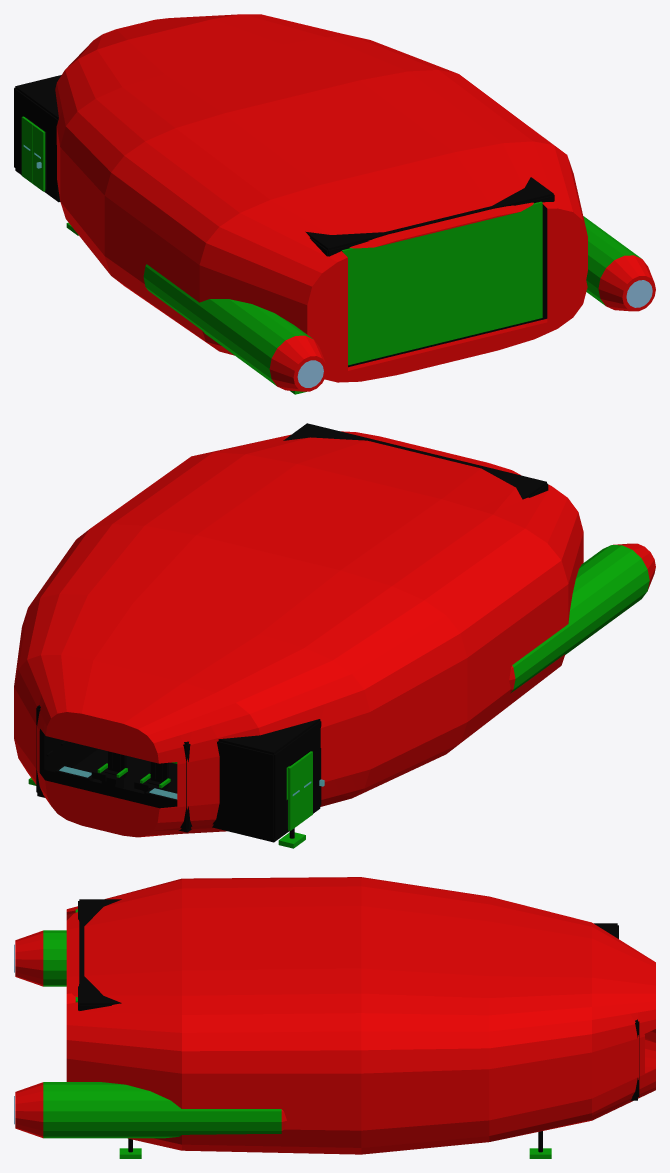
Rendered from shorebird.glb.
3 views of the same model, one above another, from view 1: azimuth 30°, elevation 25°; view 2: azimuth 150°, elevation 25°; view 3: azimuth 270°, elevation 25° (orthographic). The views are drawn at different scales.
Visible parts, largest first — view 1: horizon_shorebird:civilian_lifting_body, horizon_shorebird:cargo_ramp, horizon_shorebird:field_drive_1, horizon_shorebird:field_drive_2, horizon_shorebird:room_bridge-eva, horizon_shorebird:ceiling_garage, horizon_shorebird:room_garage, horizon_shorebird:ceiling_bridge-eva, horizon_shorebird:door_bridge-eva-outer_1, horizon_shorebird:door_bridge-eva-outer_-1; view 2: horizon_shorebird:civilian_lifting_body, horizon_shorebird:room_bridge-eva, horizon_shorebird:field_drive_1, horizon_shorebird:room_bridge, horizon_shorebird:ceiling_garage, horizon_shorebird:ceiling_bridge-eva, horizon_shorebird:door_bridge-eva-outer_-1, horizon_shorebird:door_bridge-eva-outer_1, horizon_shorebird:seat_1; view 3: horizon_shorebird:civilian_lifting_body, horizon_shorebird:field_drive_2, horizon_shorebird:field_drive_1, horizon_shorebird:ceiling_garage.
Boxes of the visible parts, x1,y1,x2,y2 form: horizon_shorebird:civilian_lifting_body: (55,14,587,382); horizon_shorebird:cargo_ramp: (341,201,542,365); horizon_shorebird:field_drive_1: (143,264,326,391); horizon_shorebird:field_drive_2: (583,216,655,311); horizon_shorebird:room_bridge-eva: (14,87,60,202); horizon_shorebird:ceiling_garage: (305,177,553,250); horizon_shorebird:room_garage: (310,194,554,367); horizon_shorebird:ceiling_bridge-eva: (15,75,61,119); horizon_shorebird:door_bridge-eva-outer_1: (32,124,45,191); horizon_shorebird:door_bridge-eva-outer_-1: (21,116,34,183); horizon_shorebird:civilian_lifting_body: (14,431,583,837); horizon_shorebird:room_bridge-eva: (212,721,321,842); horizon_shorebird:field_drive_1: (509,543,655,693); horizon_shorebird:room_bridge: (36,707,192,832); horizon_shorebird:ceiling_garage: (283,423,546,499); horizon_shorebird:ceiling_bridge-eva: (218,719,320,754); horizon_shorebird:door_bridge-eva-outer_-1: (288,759,301,830); horizon_shorebird:door_bridge-eva-outer_1: (300,751,312,822); horizon_shorebird:seat_1: (97,751,127,788); horizon_shorebird:civilian_lifting_body: (66,877,655,1154); horizon_shorebird:field_drive_2: (14,1082,286,1138); horizon_shorebird:field_drive_1: (14,930,66,986); horizon_shorebird:ceiling_garage: (79,899,121,1004).
Bounding box in the file's own units: 16.2 × 7.08 × 25.05.
